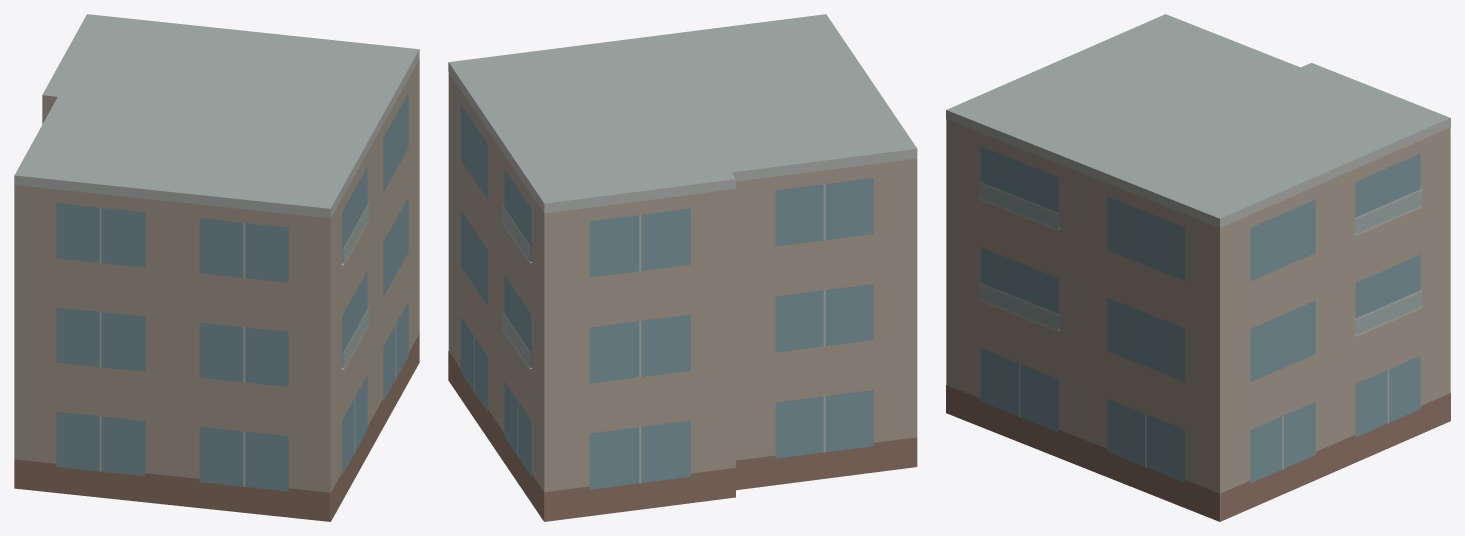
File: survey-upis-32497871.glb
The picture shows the model from 3 angles, left to right: view 1: azimuth 30°, elevation 25°; view 2: azimuth 150°, elevation 25°; view 3: azimuth 270°, elevation 25°; orthographic projection. The views are drawn at different scales.
Parts seen in each view (by area): view 1: survey-upis-32497871.tmp; view 2: survey-upis-32497871.tmp; view 3: survey-upis-32497871.tmp.
Part boxes in pixels (x1=…): survey-upis-32497871.tmp: x1=14, y1=14, x2=419, y2=521; survey-upis-32497871.tmp: x1=448, y1=14, x2=917, y2=521; survey-upis-32497871.tmp: x1=946, y1=14, x2=1450, y2=521.
Size of the model in its own units: 11.55 by 7.97 by 12.03.
